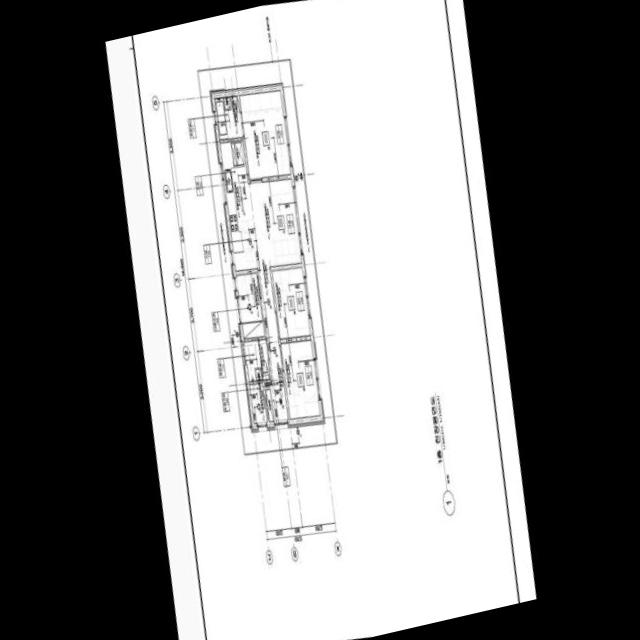background: (104, 0, 536, 640)
space_bedroom: (239, 90, 289, 177), (280, 339, 319, 417), (271, 267, 309, 337)
space_front: (265, 383, 287, 420)
space_kitchen: (219, 139, 257, 269)
space_living_room: (247, 178, 300, 381)
space_multipurpose_space: (235, 272, 263, 337)
space_other: (249, 383, 266, 422)
space_toilet: (214, 95, 241, 138), (243, 338, 269, 380)
